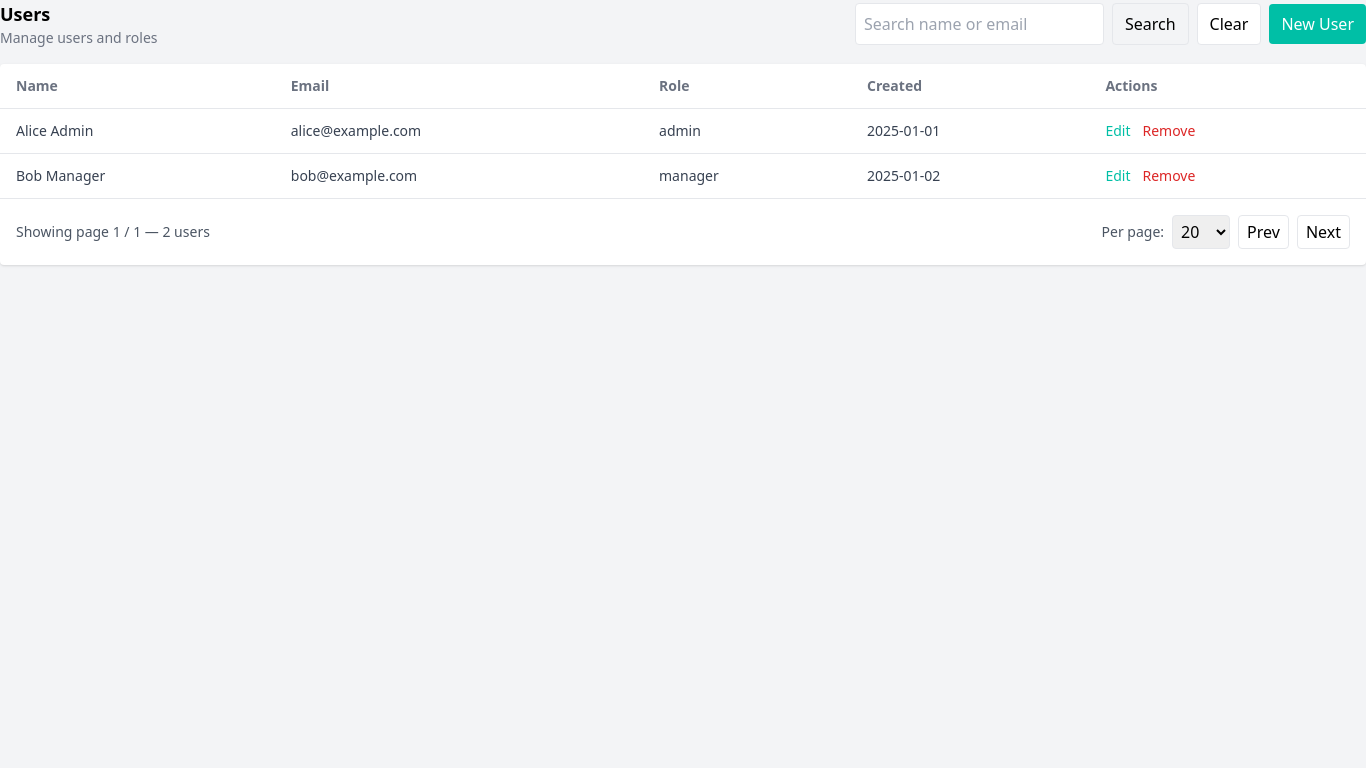
it: /admin/users flows › deletes a user after confirmation
Check: the text "Bob Manager" is shown, box [0, 154, 275, 198]
Click the button "Remove" in the row of "Bob Manager".
click(1169, 176)  # box [1142, 166, 1195, 186]
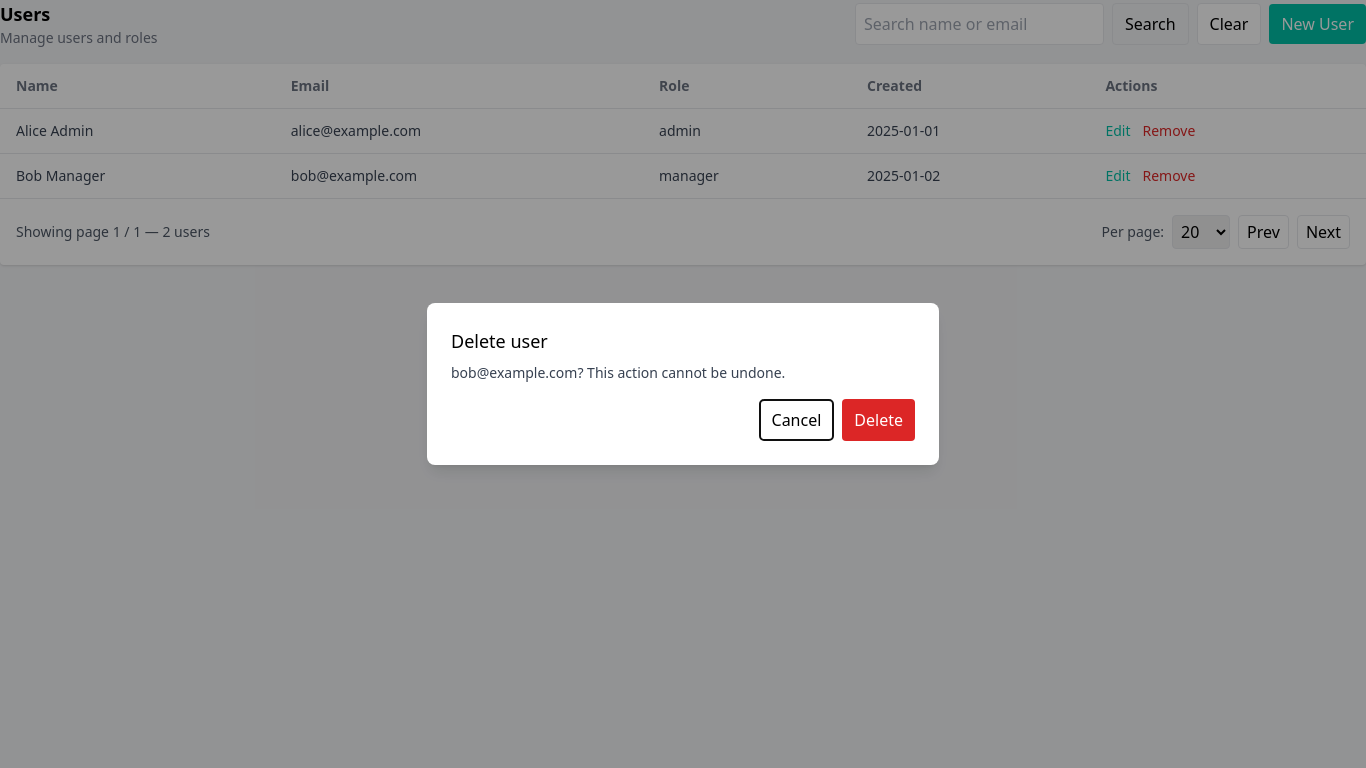
Check: the heading "Delete user" is shown, box [451, 329, 548, 353]
Click the button "Delete".
click(879, 420)  # box [842, 399, 915, 441]
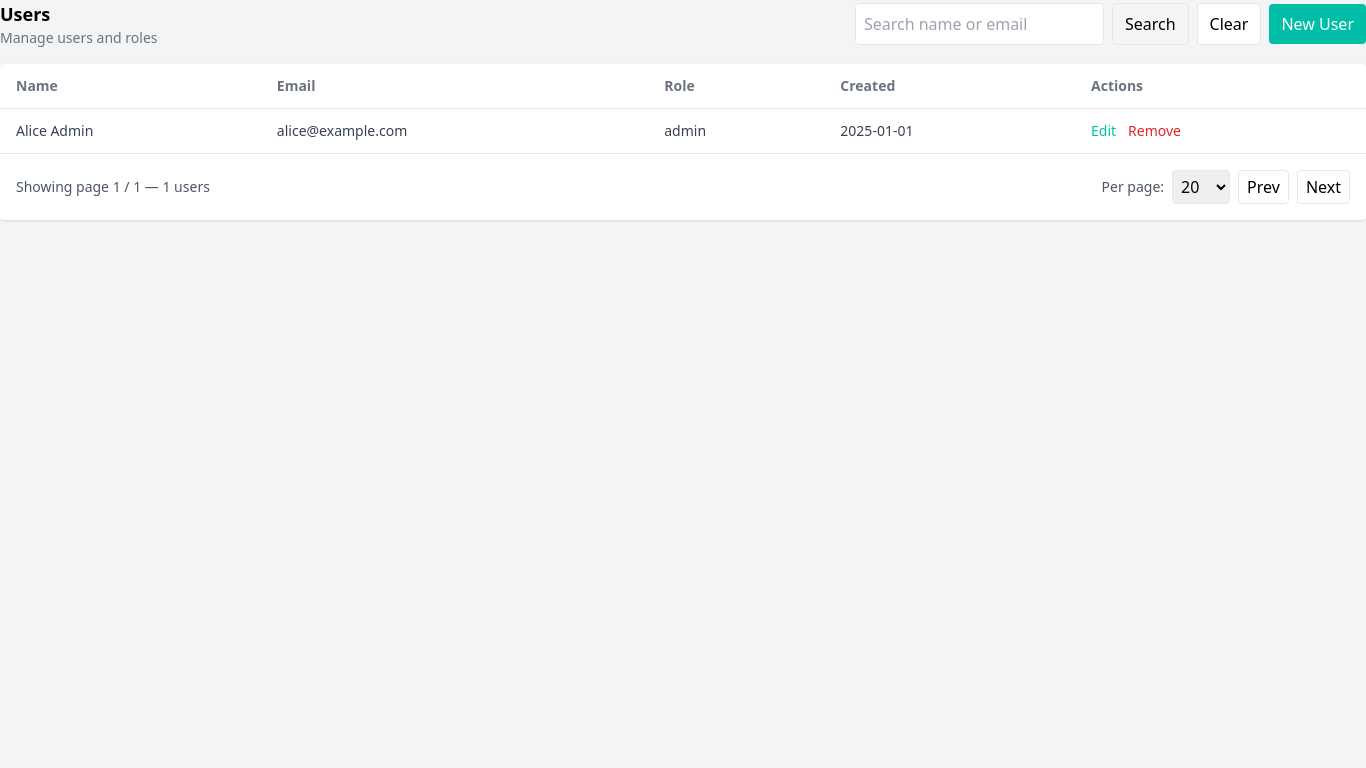
Check: the text "Bob Manager" is gone
